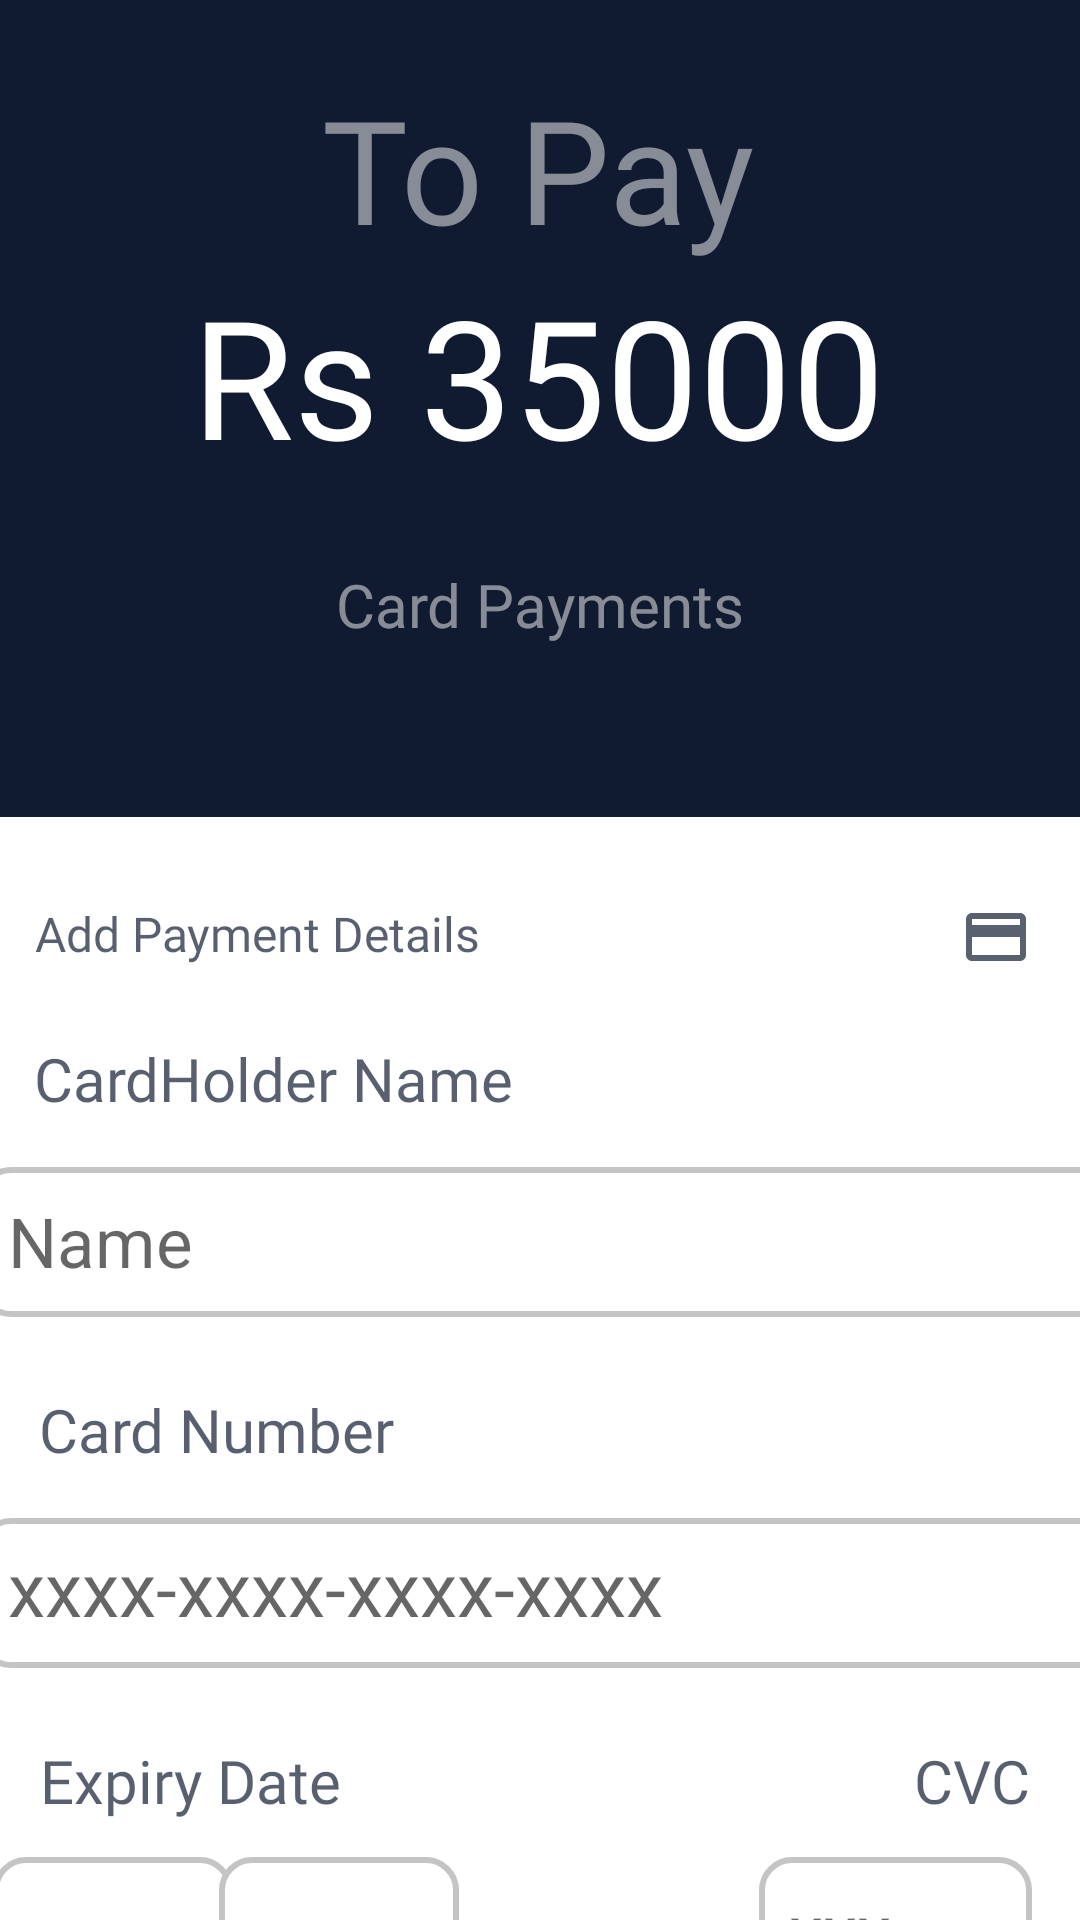

Icon click points for this 1080px×1920px phone screenshot, format (x,y):
credit card: (996,937)
